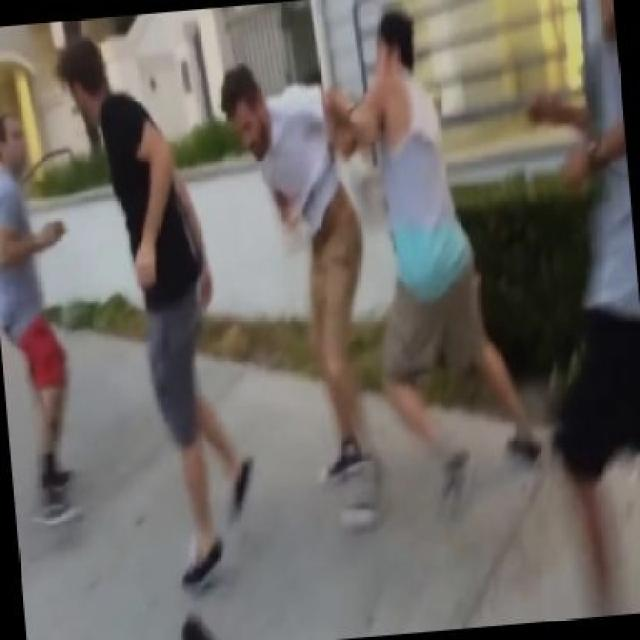fight: (220, 10, 543, 528), (55, 43, 252, 585), (0, 114, 86, 526)
